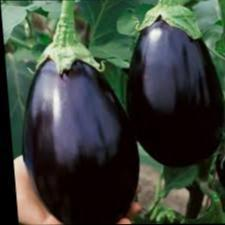eggplant: (9, 8, 142, 224), (119, 0, 221, 162)
